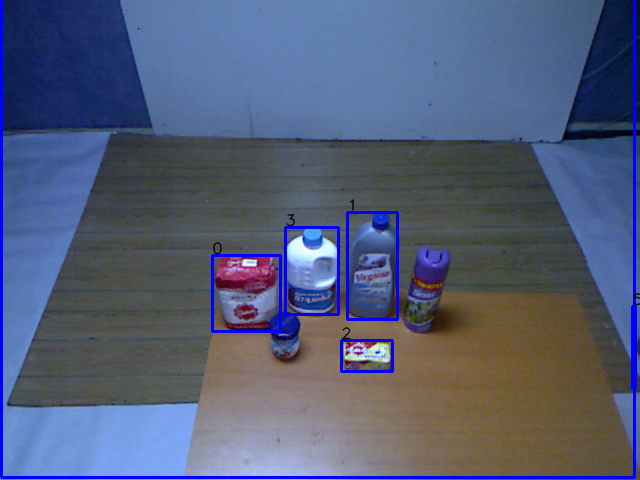aerosol: (400, 242, 456, 338)
cera: (344, 208, 401, 322)
cloro: (279, 224, 343, 316)
crema: (265, 306, 305, 364)
harina: (211, 254, 281, 334)
mantequilla: (337, 335, 397, 374)
